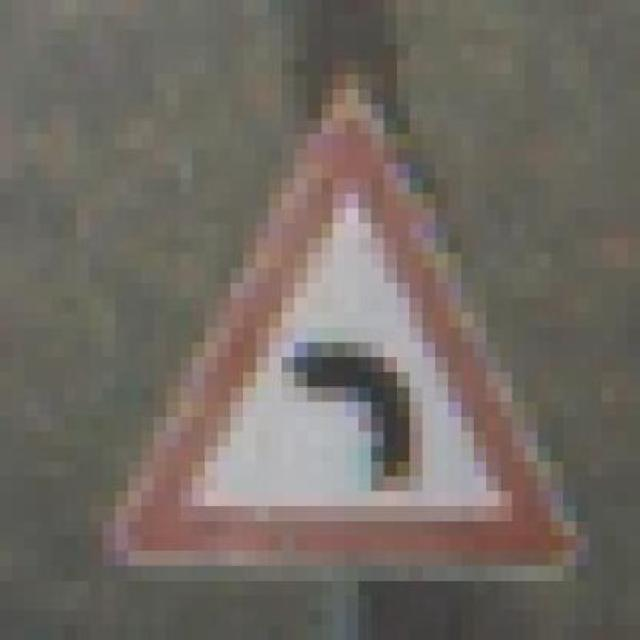Dangerous Left Curve Ahead: (89, 74, 602, 595)
